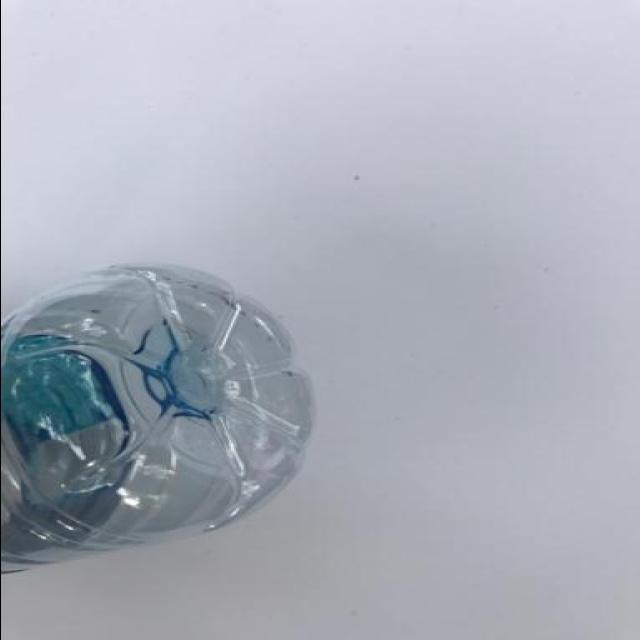PET: (0, 252, 329, 592)
